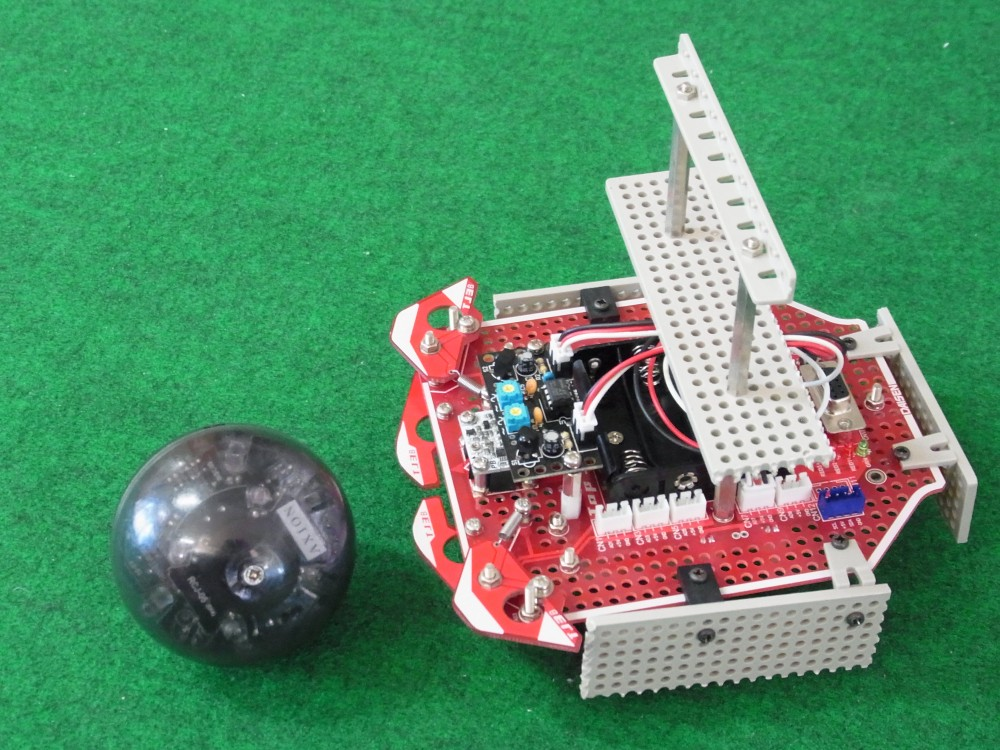Robot: (388, 22, 980, 704)
